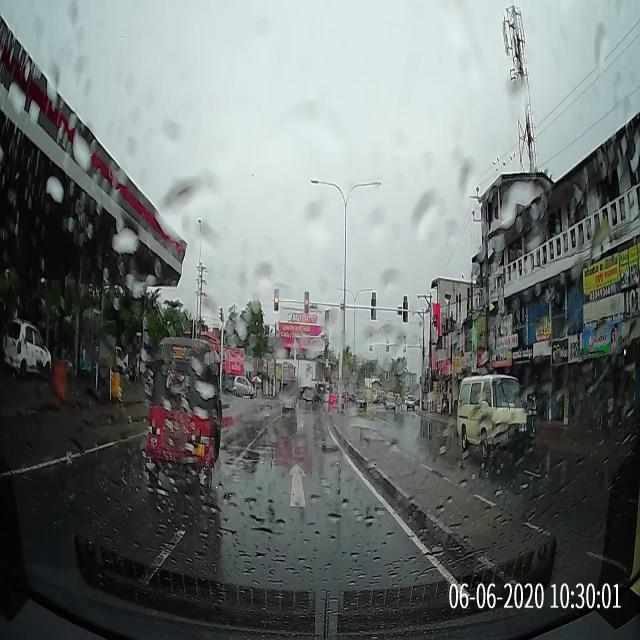forward: (204, 461, 392, 510)
